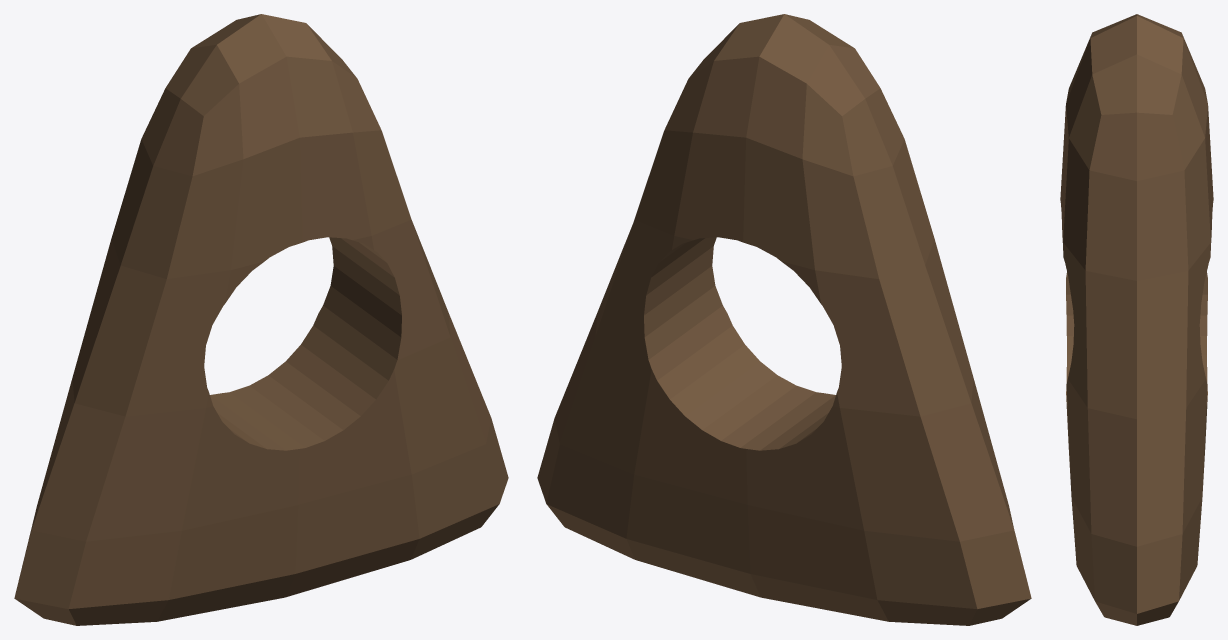
The model's file is ouija.fbx.
3 renders of one model, left to right at view 1: azimuth 30°, elevation 25°; view 2: azimuth 150°, elevation 25°; view 3: azimuth 270°, elevation 25°, orthographic. The views are drawn at different scales.
Parts seen in each view (by area): view 1: Ouija; view 2: Ouija; view 3: Ouija.
Boxes of the visible parts, x1,y1,x2,y2 form: Ouija: [14, 14, 508, 625]; Ouija: [537, 14, 1031, 625]; Ouija: [1060, 14, 1213, 625].
Size of the model in its own units: 12.17 by 13.54 by 3.52.
